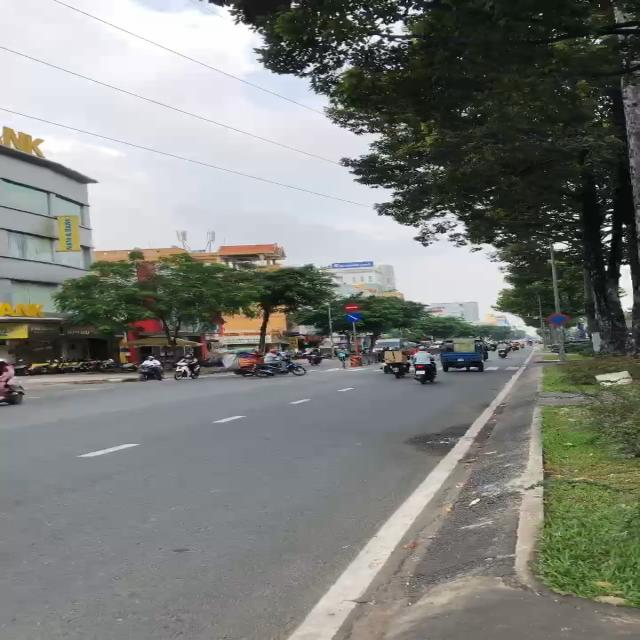Bien bao cam di nguoc chieu: (341, 303, 361, 313)
Bien bao huong phai di vong chuong ngai vat: (342, 312, 363, 324)
